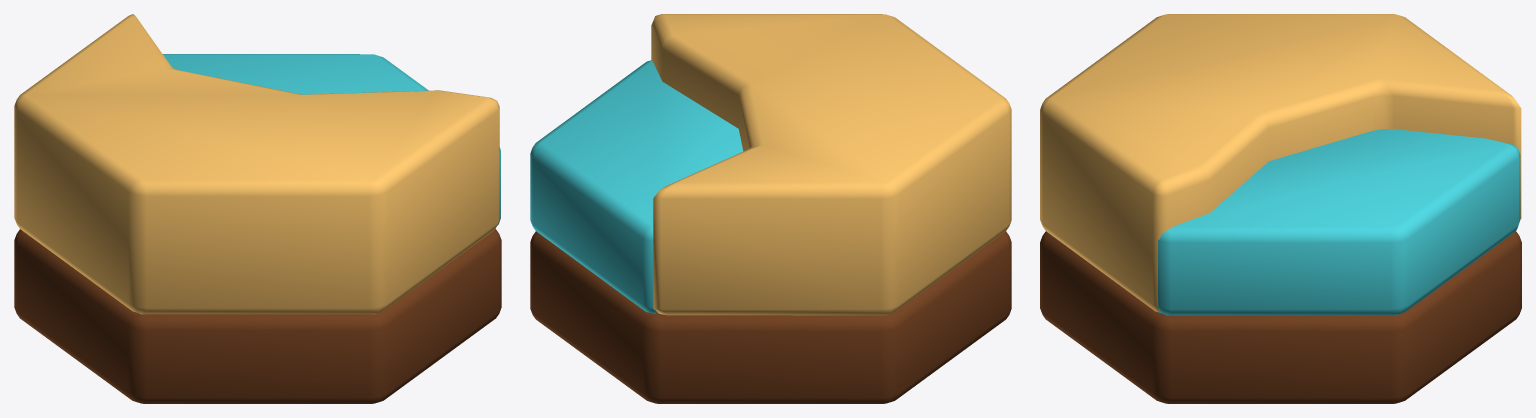
File: ground_water_border1.glb
3 renders of one model, left to right at view 1: azimuth 30°, elevation 25°; view 2: azimuth 150°, elevation 25°; view 3: azimuth 270°, elevation 25°, orthographic.
Visible parts, largest first — view 1: ground_water_border1; view 2: ground_water_border1; view 3: ground_water_border1.
Boxes of the visible parts, x1,y1,x2,y2 form: ground_water_border1: [14, 14, 501, 403]; ground_water_border1: [530, 14, 1011, 403]; ground_water_border1: [1040, 14, 1521, 403].
Bounding box in the file's own units: 6.93 × 4 × 7.9.
